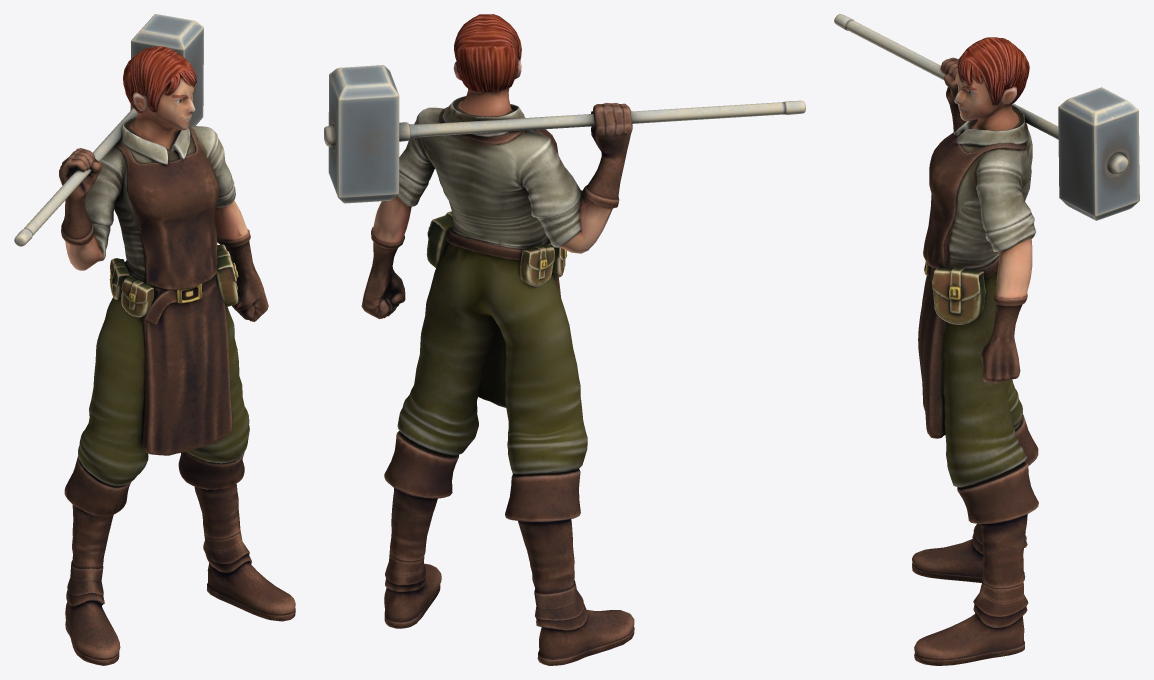
File: MZ4250 - NPC Commoner Blacksmith.glb
The picture shows the model from 3 angles, left to right: view 1: azimuth 30°, elevation 25°; view 2: azimuth 150°, elevation 25°; view 3: azimuth 270°, elevation 25°; orthographic projection. The views are drawn at different scales.
Parts seen in each view (by area): view 1: body_low.001, maul_low.001, puch_low.001; view 2: body_low.001, maul_low.001, puch_low.001; view 3: body_low.001, maul_low.001, puch_low.001.
Boxes of the visible parts, x1,y1,x2,y2 form: body_low.001: [59, 46, 295, 665]; maul_low.001: [14, 14, 203, 246]; puch_low.001: [109, 244, 238, 317]; body_low.001: [361, 14, 634, 665]; maul_low.001: [324, 65, 805, 203]; puch_low.001: [426, 211, 567, 286]; body_low.001: [912, 37, 1038, 665]; maul_low.001: [834, 14, 1139, 220]; puch_low.001: [932, 267, 985, 324].
Size of the model in its own units: 3.89 by 6.45 by 3.12.
Materials: 1 (1 with a texture image).
